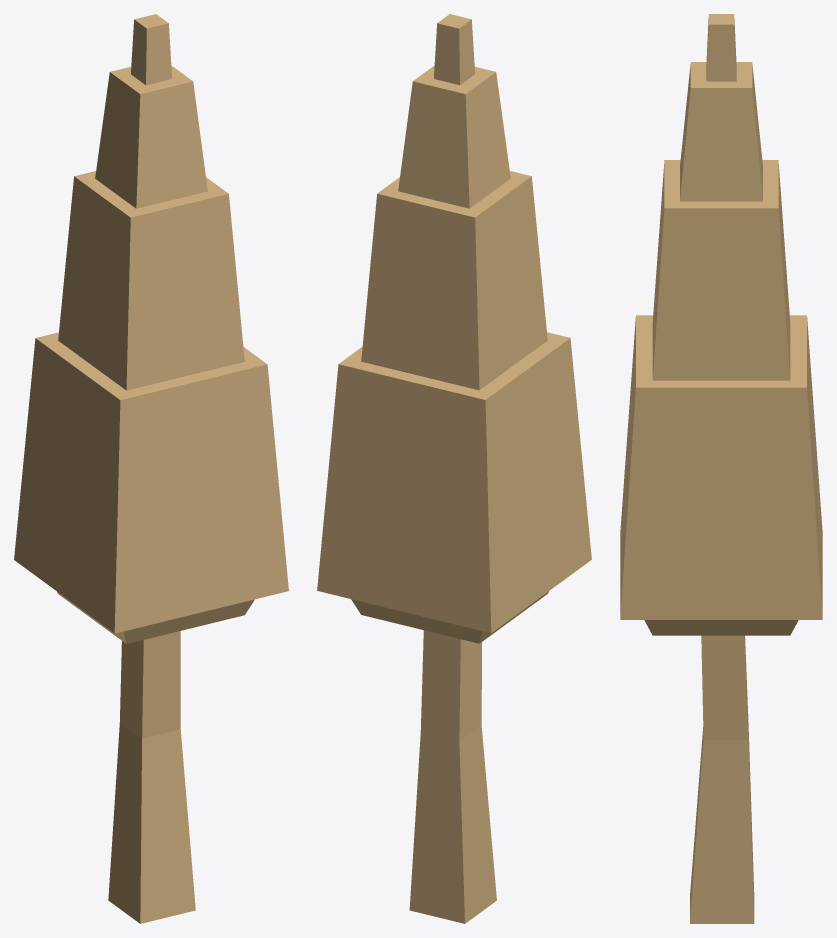
The model's file is Mega_Asset_s_Pack_Cube_042.FBX.
3 views of the same model, side by side, from view 1: azimuth 30°, elevation 25°; view 2: azimuth 150°, elevation 25°; view 3: azimuth 270°, elevation 25° (orthographic).
Visible parts, largest first — view 1: Mega_Asset_s_Pack_Cube_042; view 2: Mega_Asset_s_Pack_Cube_042; view 3: Mega_Asset_s_Pack_Cube_042.
Part boxes in pixels (x1,y1,x2,y2): Mega_Asset_s_Pack_Cube_042: (14, 14, 288, 923); Mega_Asset_s_Pack_Cube_042: (317, 14, 591, 923); Mega_Asset_s_Pack_Cube_042: (620, 14, 822, 923).
Size of what is drawn, in the model's own units: 308 by 308 by 1496.
